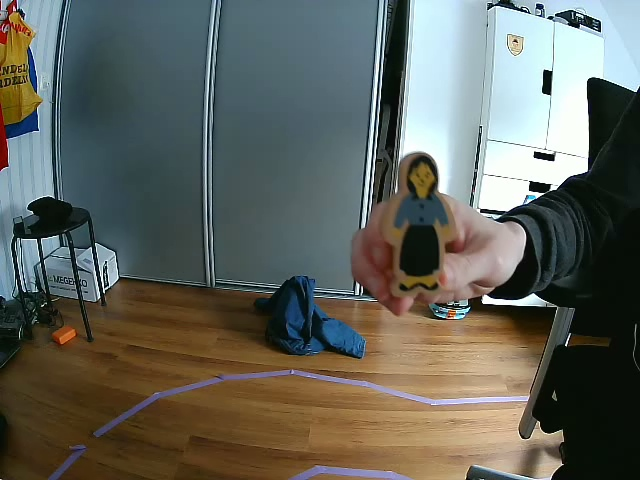mens: (385, 152, 455, 295)
